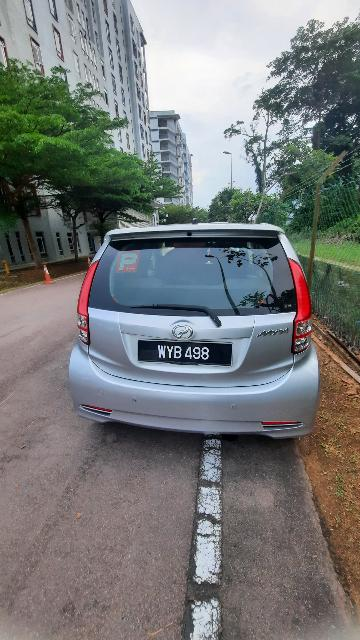License_Plate: (138, 335, 236, 370)
car: (65, 221, 322, 452)
